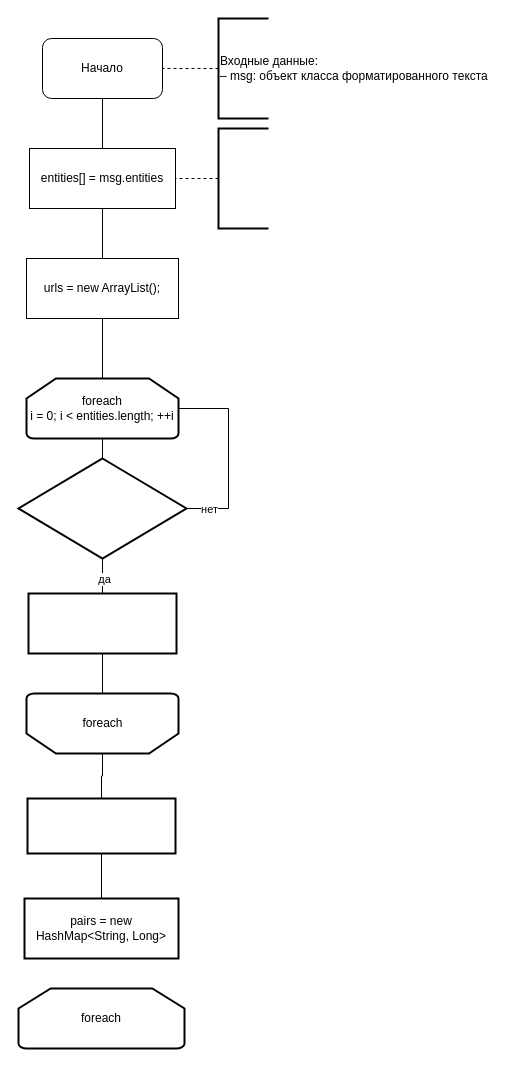
Some shapes in this 505 by 1066 pixel diagram are drawn without their labels. Here are the shapes that lost their labels. From the top down, the box of each, then its label:
(217, 127, 269, 229): Получаем все сущности форматированных данных в сообщении в виде массива
(17, 457, 187, 559): Является ли entities[i] объектом класса строки ссылки?
(27, 592, 177, 654): urls.add(entities[i])
(26, 797, 176, 854): uniqueUrls = new HashSet(urls)
